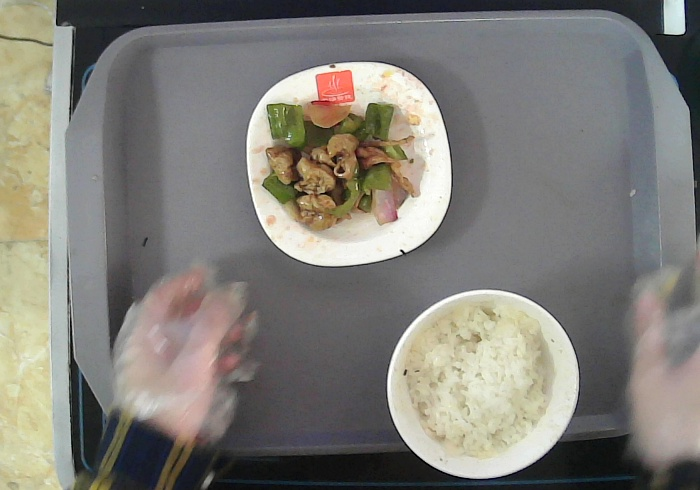SHKJ-Bai_Se_Si_Fang_Cai_Die: (246, 61, 453, 268)
SHKJ-Fan_Wan: (387, 289, 578, 479)
